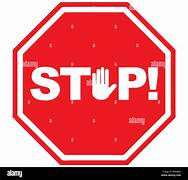stop: (13, 1, 177, 166)
